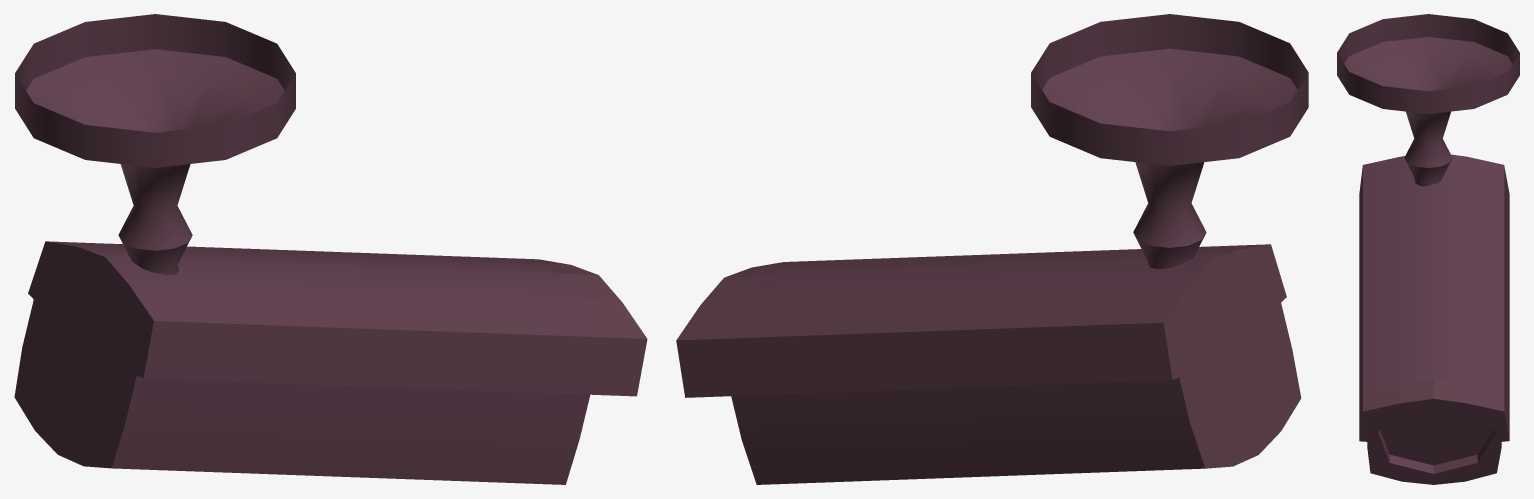
The model's file is SecurityCamera.fbx.
The picture shows the model from 3 angles, left to right: view 1: azimuth 30°, elevation 25°; view 2: azimuth 150°, elevation 25°; view 3: azimuth 270°, elevation 25°; orthographic projection. The views are drawn at different scales.
Visible parts, largest first — view 1: Box024; view 2: Box024; view 3: Box024.
Boxes of the visible parts, x1,y1,x2,y2 form: Box024: (14, 14, 647, 484); Box024: (676, 14, 1308, 484); Box024: (1337, 14, 1519, 484).
Size of the model in its own units: 62.73 by 51.48 by 26.84.
